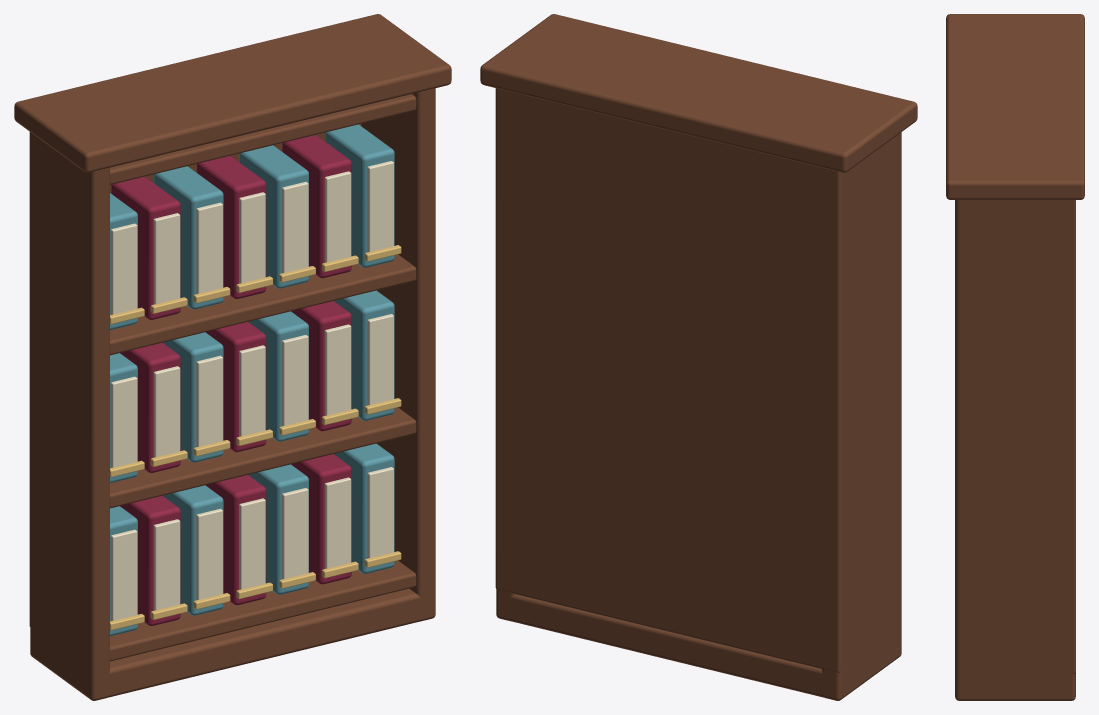
File: royal-court-and-throne-palace-archive-bookcase-5a3097cc__29398.glb
3 views of the same model, side by side, from view 1: azimuth 30°, elevation 25°; view 2: azimuth 150°, elevation 25°; view 3: azimuth 270°, elevation 25° (orthographic). The views are drawn at different scales.
Parts seen in each view (by area): view 1: archive-bookcase; view 2: archive-bookcase; view 3: archive-bookcase.
Part boxes in pixels (box(x1,y1,x2,y2)): archive-bookcase: box(14, 14, 451, 700); archive-bookcase: box(480, 14, 917, 700); archive-bookcase: box(946, 14, 1084, 700).
Bounding box in the file's own units: 1.33 × 1.92 × 0.4599.
